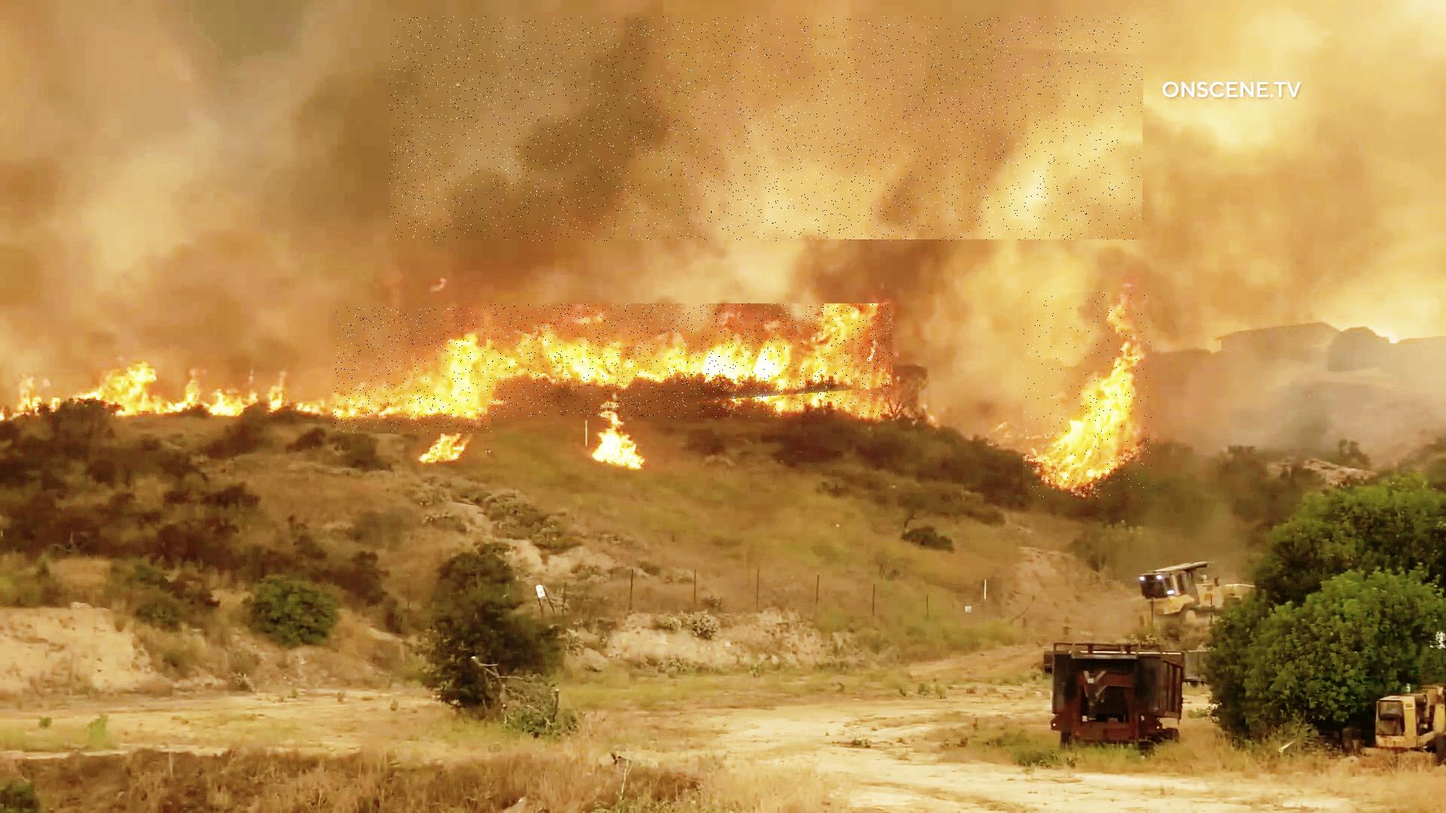fire: (486, 304, 893, 417), (1023, 292, 1154, 497), (336, 307, 495, 434)
smoke: (390, 17, 1145, 241)
